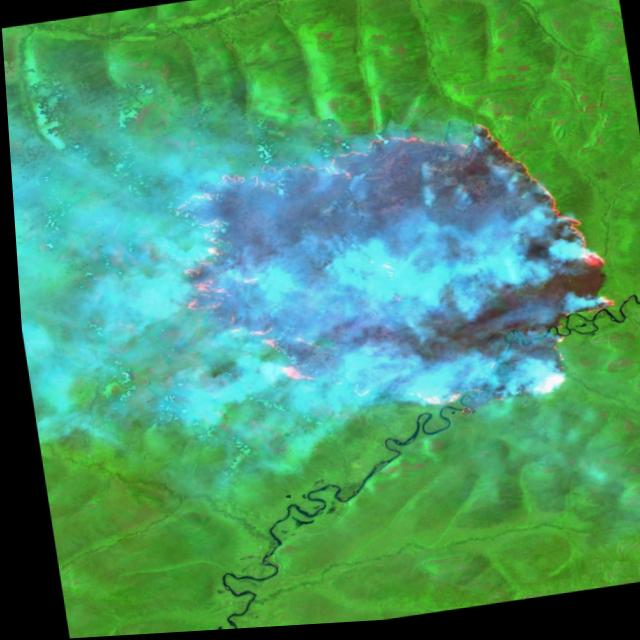fire: (143, 93, 630, 457)
